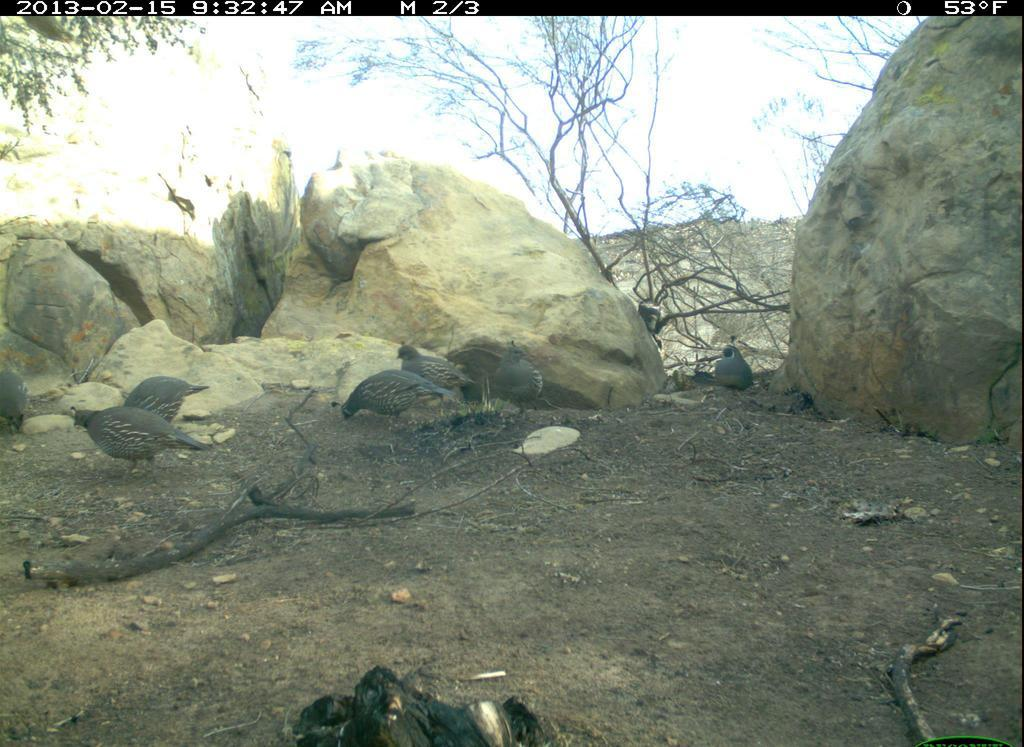bird: (65, 401, 217, 481), (326, 369, 462, 432), (388, 336, 480, 414), (116, 371, 217, 436), (492, 336, 550, 425), (710, 331, 759, 401), (1, 363, 40, 441)
